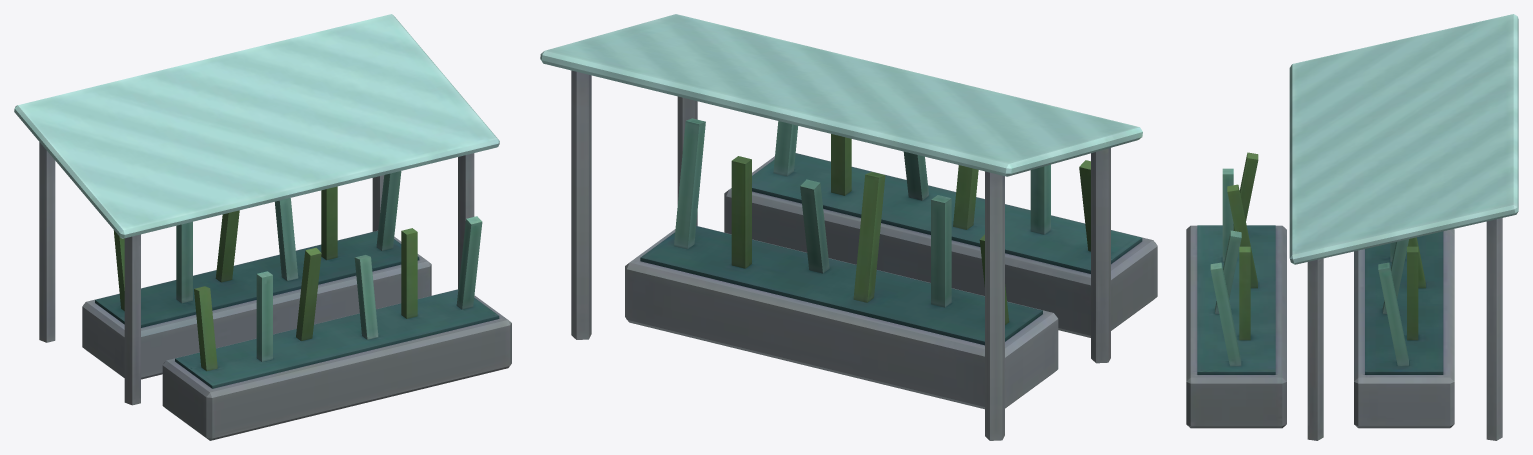
File: greenhouse-1-age20.glb
3 views of the same model, side by side, from view 1: azimuth 30°, elevation 25°; view 2: azimuth 150°, elevation 25°; view 3: azimuth 270°, elevation 25° (orthographic). The views are drawn at different scales.
Parts seen in each view (by area): view 1: greenhouse-1-age20; view 2: greenhouse-1-age20; view 3: greenhouse-1-age20.
Boxes of the visible parts, box(x1,y1,x2,y2) form: greenhouse-1-age20: box(14, 14, 511, 440); greenhouse-1-age20: box(540, 14, 1157, 440); greenhouse-1-age20: box(1186, 14, 1518, 440).
Bounding box in the file's own units: 0.82 × 0.4791 × 0.5947.
1 material, 1 textured.
